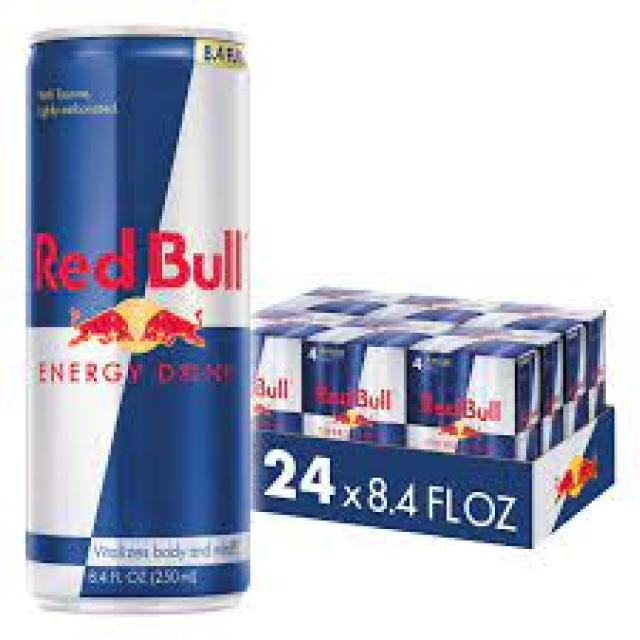Cans: (14, 17, 268, 620)
